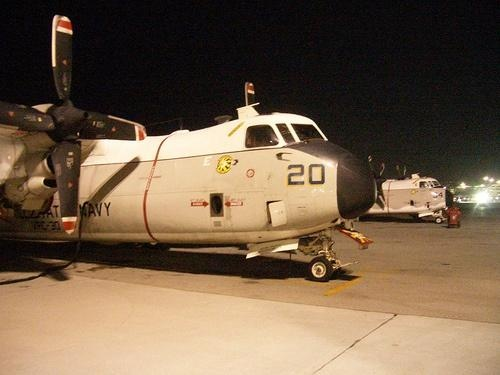aeroplane: (2, 15, 393, 287), (369, 153, 465, 228)
